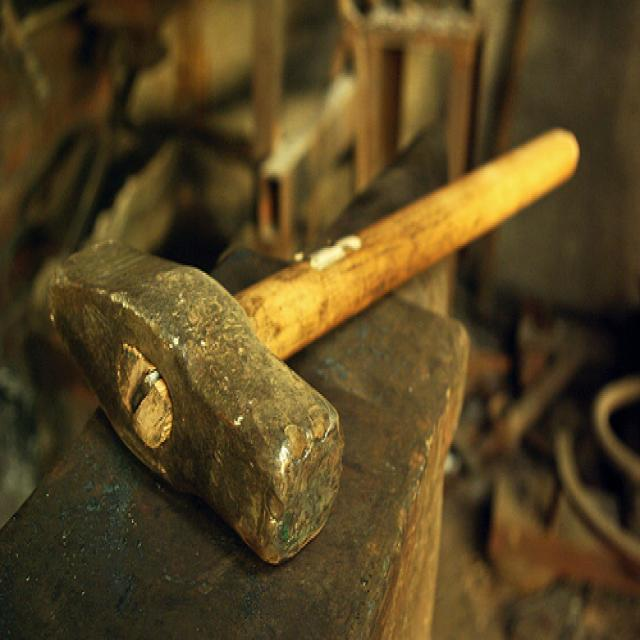hammer: (36, 116, 588, 580)
